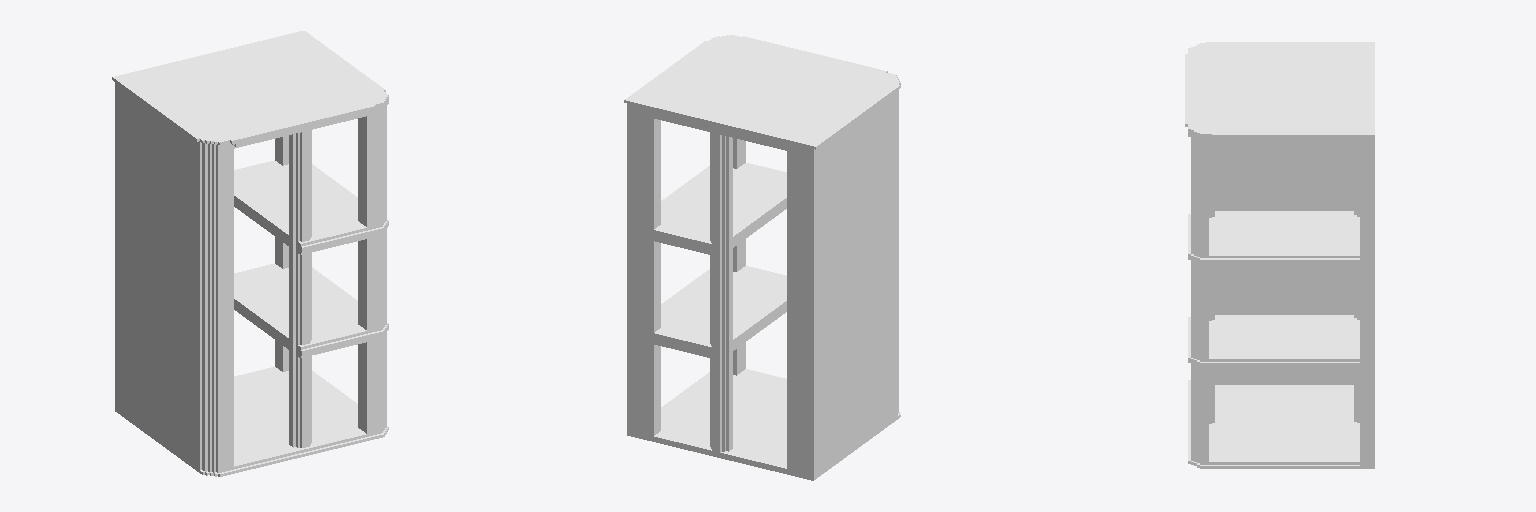
File: bureau_mobilier-4.obj
3 renders of one model, left to right at view 1: azimuth 30°, elevation 25°; view 2: azimuth 150°, elevation 25°; view 3: azimuth 270°, elevation 25°, orthographic.
Parts seen in each view (by area): view 1: object 1; view 2: object 1; view 3: object 1.
Part boxes in pixels (left/top/right/bottom): object 1: left=112, top=31, right=388, bottom=476; object 1: left=624, top=35, right=900, bottom=480; object 1: left=1185, top=42, right=1374, bottom=468.
Size of the model in its own units: 7.2 by 12 by 6.2.